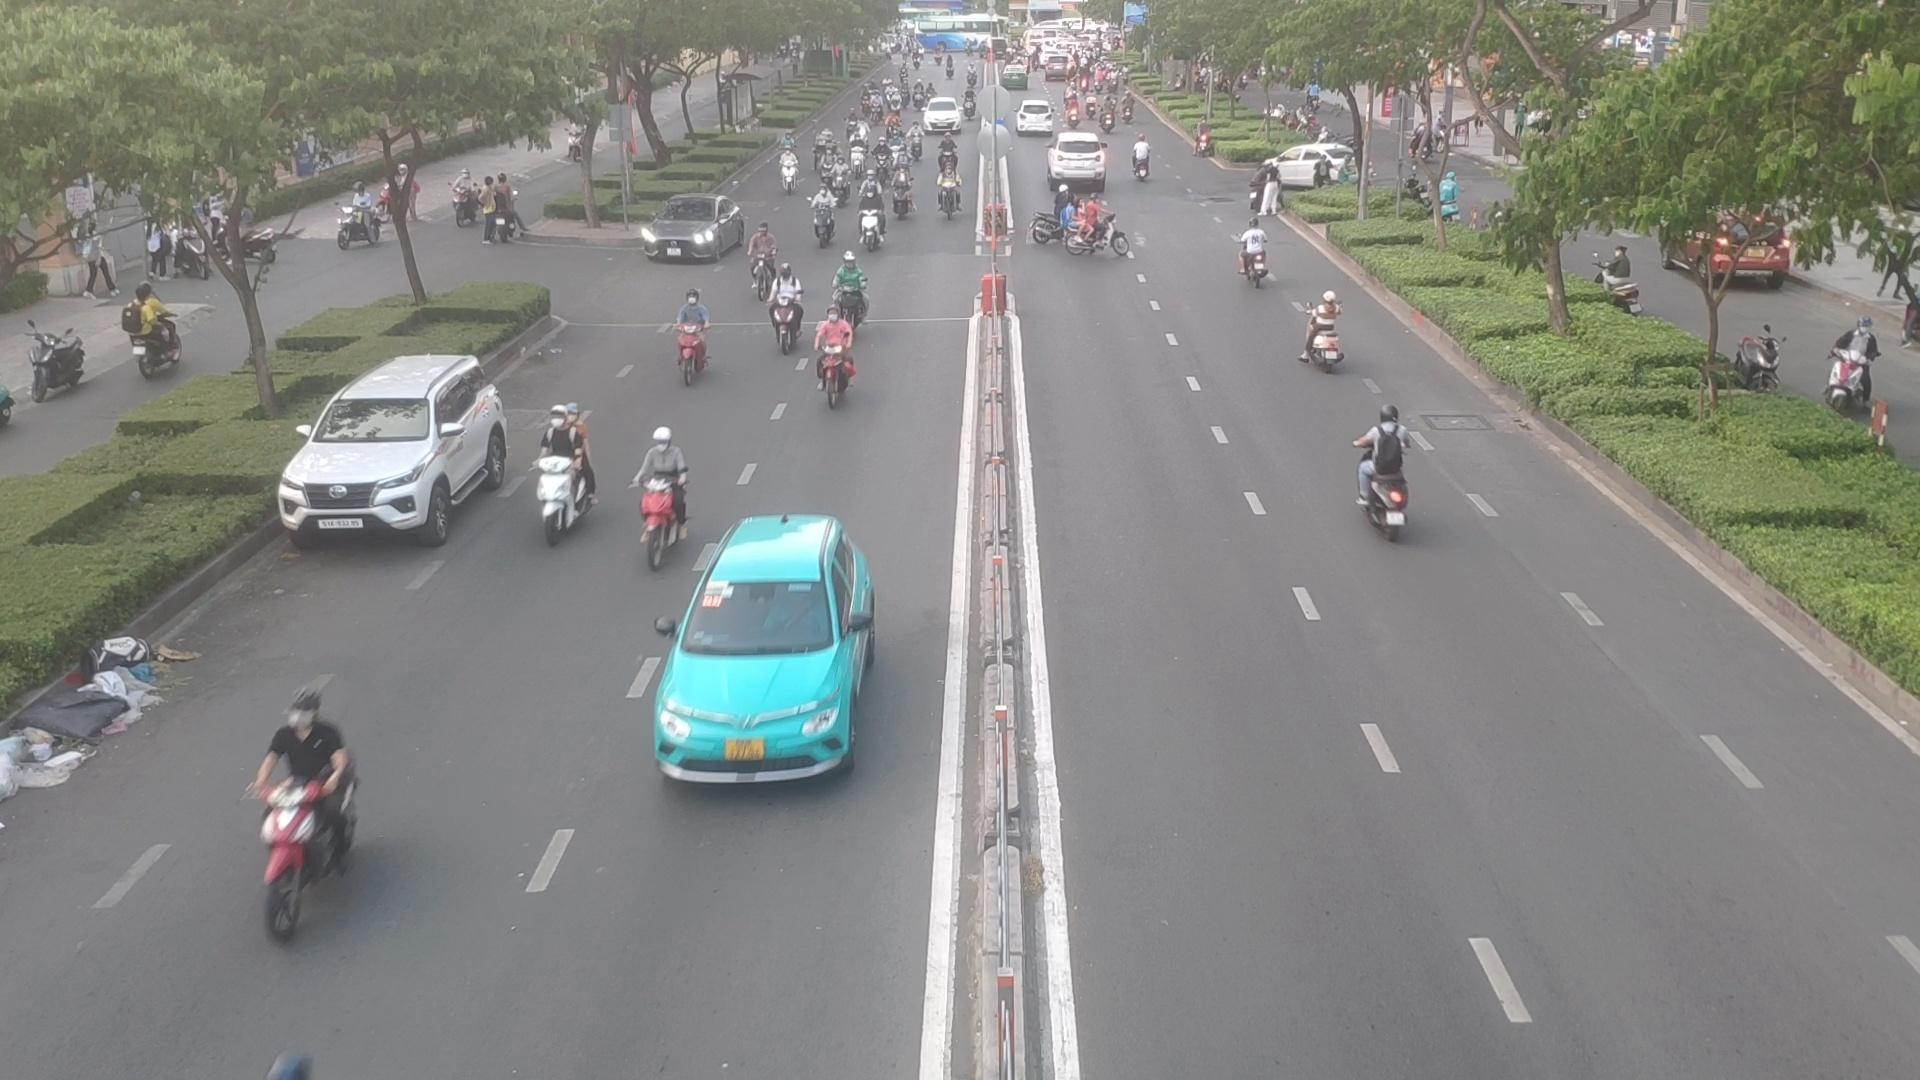car: (637, 513, 874, 783), (272, 349, 517, 542), (634, 195, 746, 262), (1262, 138, 1365, 195), (1048, 135, 1102, 179)
motorbike: (239, 688, 371, 939), (1356, 401, 1424, 560), (537, 400, 589, 535), (636, 427, 682, 559), (1062, 196, 1129, 270), (766, 261, 806, 353), (1303, 286, 1341, 375), (814, 307, 847, 397), (832, 247, 865, 331), (680, 286, 702, 385), (1127, 131, 1162, 189), (1238, 216, 1267, 280), (745, 227, 771, 293), (858, 193, 884, 255), (893, 160, 916, 224), (938, 160, 963, 218), (810, 183, 831, 243), (833, 160, 852, 204), (778, 146, 794, 194), (872, 137, 889, 178), (849, 135, 866, 169), (818, 141, 831, 185), (889, 129, 906, 161), (942, 131, 956, 167), (909, 124, 923, 154)
